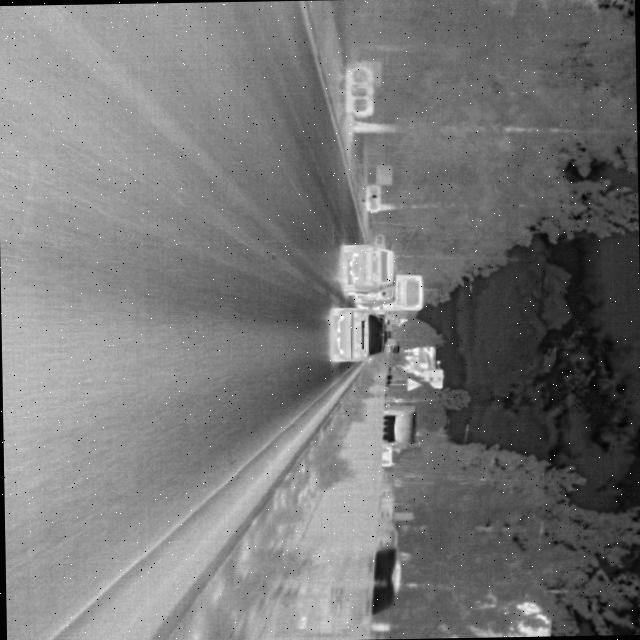Vehicle: (326, 304, 390, 364), (337, 241, 398, 296), (351, 272, 426, 313)
